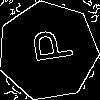P: (23, 25, 74, 66)
